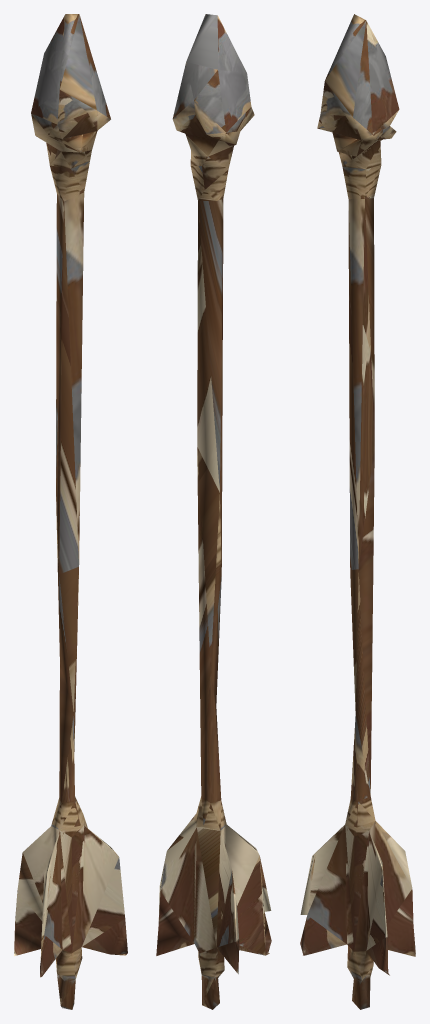
File: arrow.glb
The picture shows the model from 3 angles, left to right: view 1: azimuth 30°, elevation 25°; view 2: azimuth 150°, elevation 25°; view 3: azimuth 330°, elevation 25°; orthographic projection.
Parts seen in each view (by area): view 1: Model; view 2: Model; view 3: Model.
Part boxes in pixels (x1=…): Model: x1=14, y1=14, x2=127, y2=1009; Model: x1=156, y1=14, x2=271, y2=1009; Model: x1=300, y1=14, x2=415, y2=1009.
Size of the model in its own units: 0.0736 by 0.7949 by 0.0554.
Materials: 1 (1 with a texture image).
